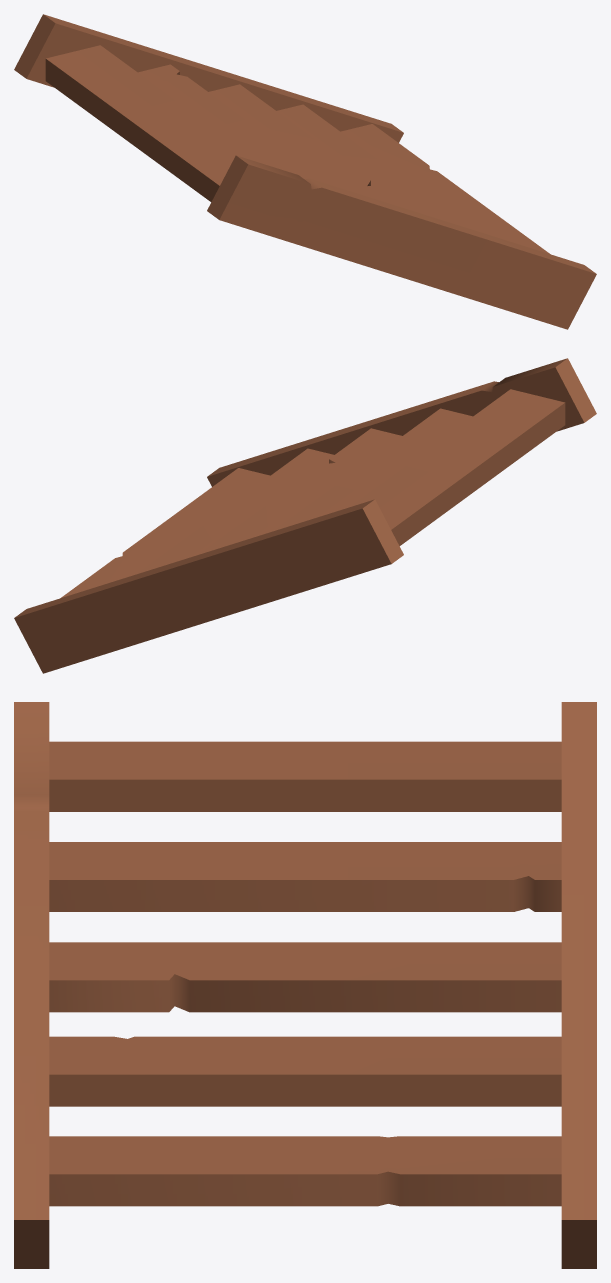
The model's file is Wood_Stairs.fbx.
The picture shows the model from 3 angles, top to bottom: view 1: azimuth 30°, elevation 25°; view 2: azimuth 150°, elevation 25°; view 3: azimuth 270°, elevation 25°; orthographic projection. The views are drawn at different scales.
Parts seen in each view (by area): view 1: woodStairs; view 2: woodStairs; view 3: woodStairs.
Part boxes in pixels (x1,y1,x2,y2): woodStairs: (14, 14, 596, 329); woodStairs: (14, 358, 596, 673); woodStairs: (14, 702, 596, 1268).
Size of the model in its own units: 7.73 by 4.76 by 7.28.
